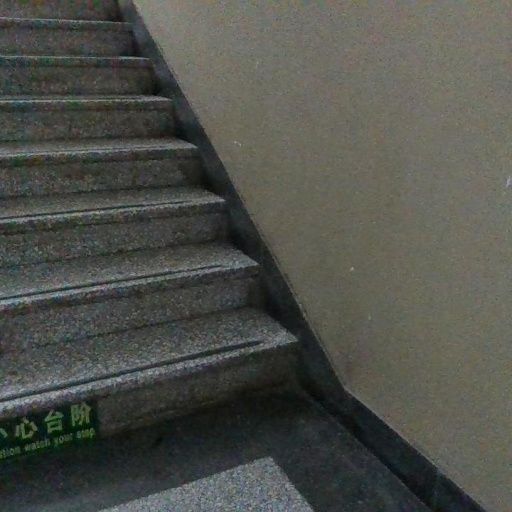Stairs: (0, 0, 296, 446)
